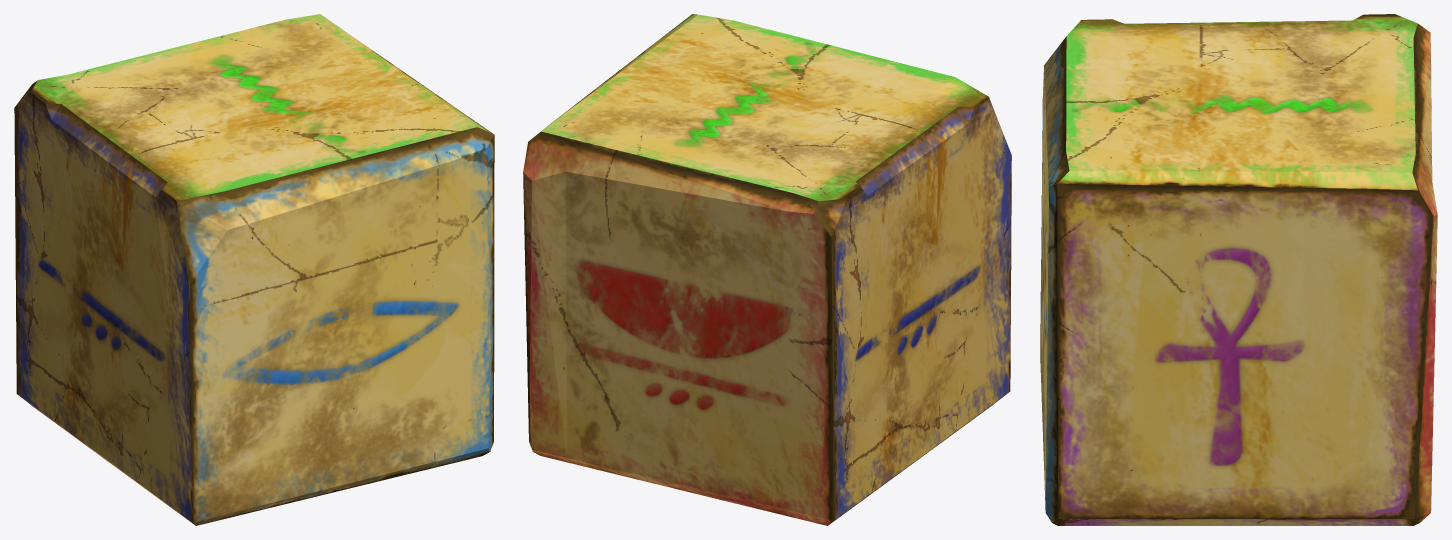
The model's file is Egypte_Floor_break_01.FBX.
3 views of the same model, side by side, from view 1: azimuth 30°, elevation 25°; view 2: azimuth 150°, elevation 25°; view 3: azimuth 270°, elevation 25° (orthographic). The views are drawn at different scales.
Parts seen in each view (by area): view 1: Egypte_Floor_Break_01; view 2: Egypte_Floor_Break_01; view 3: Egypte_Floor_Break_01.
Part boxes in pixels (left/top/right/bottom): Egypte_Floor_Break_01: left=14, top=14, right=494, bottom=525; Egypte_Floor_Break_01: left=523, top=14, right=1011, bottom=525; Egypte_Floor_Break_01: left=1040, top=14, right=1437, bottom=525.
Size of the model in its own units: 8.07 by 8.06 by 8.15.
